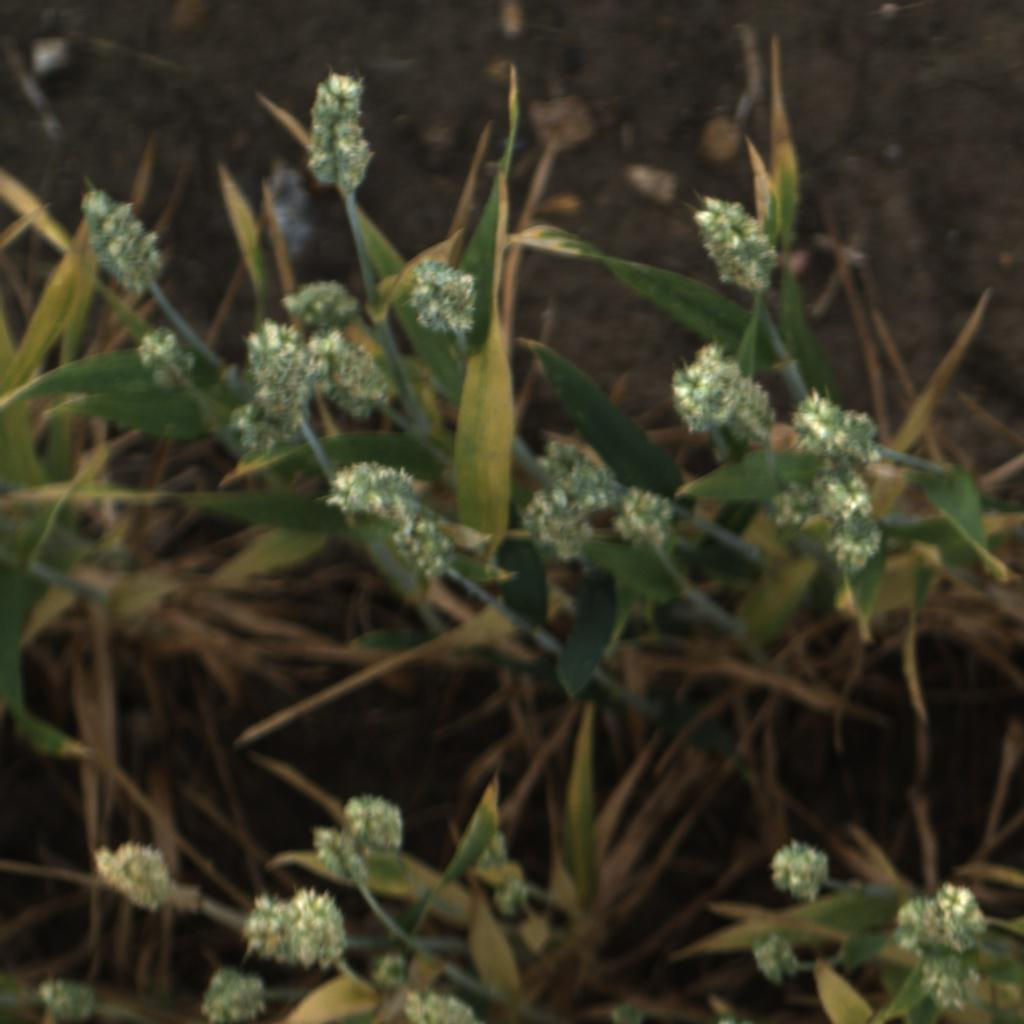0-0: (74, 187, 169, 291), (693, 196, 788, 300), (301, 72, 380, 197), (663, 336, 746, 438), (310, 331, 396, 421), (241, 317, 318, 417), (93, 831, 181, 914), (403, 255, 487, 341), (794, 388, 891, 460), (323, 456, 420, 523), (514, 484, 593, 566), (539, 433, 618, 513), (291, 887, 359, 977), (616, 478, 684, 557), (278, 271, 366, 330), (129, 322, 201, 394), (194, 963, 278, 1024), (717, 375, 780, 456), (387, 515, 460, 583), (765, 834, 835, 903), (814, 461, 884, 528), (761, 477, 830, 543), (341, 786, 406, 856), (359, 943, 429, 1006), (232, 401, 304, 462), (918, 953, 985, 1016), (235, 891, 295, 961), (749, 930, 814, 991), (885, 886, 943, 954), (303, 826, 369, 884), (937, 881, 992, 950), (400, 984, 492, 1024), (828, 523, 891, 579), (33, 972, 100, 1024), (467, 830, 512, 874), (490, 871, 533, 917)
